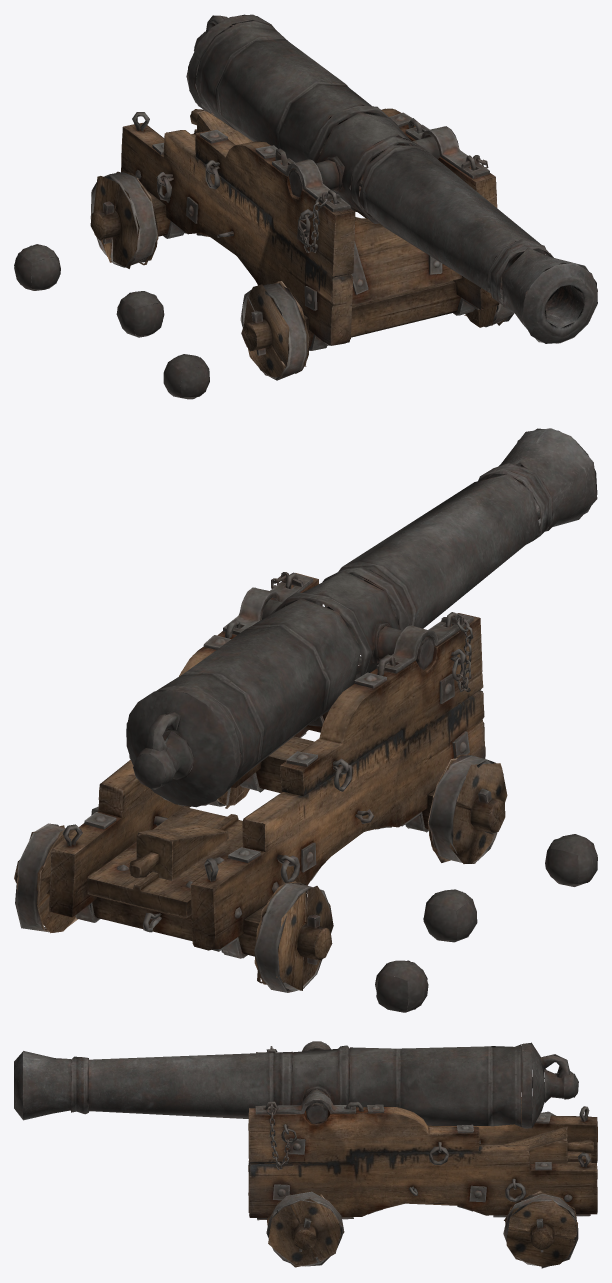
The model's file is cannon_01.glb.
The picture shows the model from 3 angles, top to bottom: view 1: azimuth 30°, elevation 25°; view 2: azimuth 150°, elevation 25°; view 3: azimuth 270°, elevation 25°; orthographic projection. The views are drawn at different scales.
Parts seen in each view (by area): view 1: cannon_01_frame, cannon_01_barrel, cannon_01_wheel_01, cannon_01_wheel_02, cannon_01_ball_03, cannon_01_ball_02, cannon_01_ball_01, cannon_01_pusherblock, cannon_01_wheel_03; view 2: cannon_01_frame, cannon_01_barrel, cannon_01_wheel_01, cannon_01_wheel_02, cannon_01_wheel_04, cannon_01_pusherblock, cannon_01_ball_02, cannon_01_ball_03, cannon_01_ball_01; view 3: cannon_01_barrel, cannon_01_frame, cannon_01_wheel_03, cannon_01_wheel_04, cannon_01_pusherblock.
Boxes of the visible parts, bbox=[...] form: cannon_01_frame: bbox=[90, 108, 499, 355]; cannon_01_barrel: bbox=[186, 14, 597, 343]; cannon_01_wheel_01: bbox=[240, 281, 309, 380]; cannon_01_wheel_02: bbox=[90, 171, 158, 268]; cannon_01_ball_03: bbox=[14, 244, 60, 290]; cannon_01_ball_02: bbox=[116, 291, 164, 337]; cannon_01_ball_01: bbox=[163, 354, 209, 399]; cannon_01_pusherblock: bbox=[190, 109, 252, 144]; cannon_01_wheel_03: bbox=[464, 293, 514, 327]; cannon_01_frame: bbox=[14, 572, 505, 964]; cannon_01_barrel: bbox=[126, 428, 597, 807]; cannon_01_wheel_01: bbox=[428, 754, 507, 863]; cannon_01_wheel_02: bbox=[254, 881, 333, 992]; cannon_01_wheel_04: bbox=[15, 823, 77, 933]; cannon_01_pusherblock: bbox=[129, 823, 228, 880]; cannon_01_ball_02: bbox=[423, 889, 477, 942]; cannon_01_ball_03: bbox=[375, 960, 428, 1012]; cannon_01_ball_01: bbox=[545, 834, 597, 886]; cannon_01_barrel: bbox=[14, 1042, 578, 1128]; cannon_01_frame: bbox=[248, 1041, 597, 1252]; cannon_01_wheel_03: bbox=[266, 1191, 344, 1267]; cannon_01_wheel_04: bbox=[503, 1191, 578, 1268]; cannon_01_pusherblock: bbox=[504, 1126, 593, 1163].
Size of the model in its own units: 1.23 by 0.7742 by 2.3.
1 material, 1 textured.
